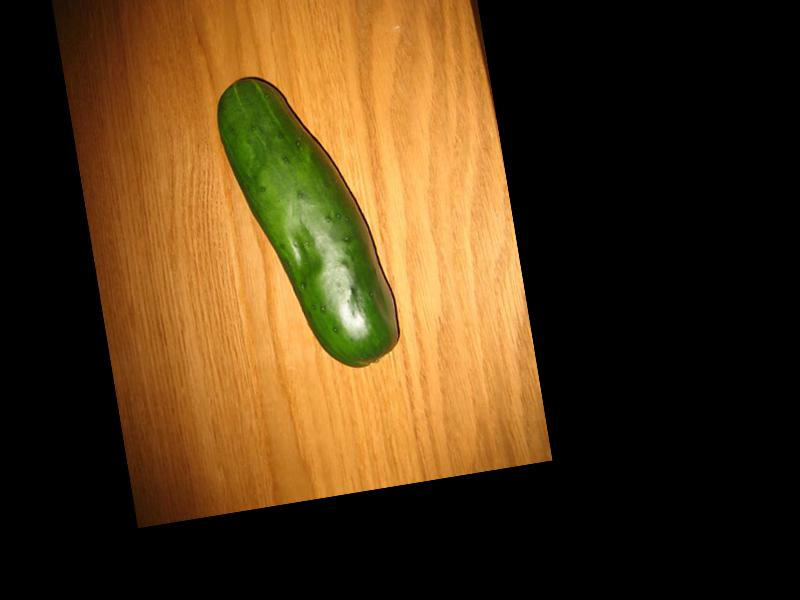Cucumber: (212, 58, 404, 379)
